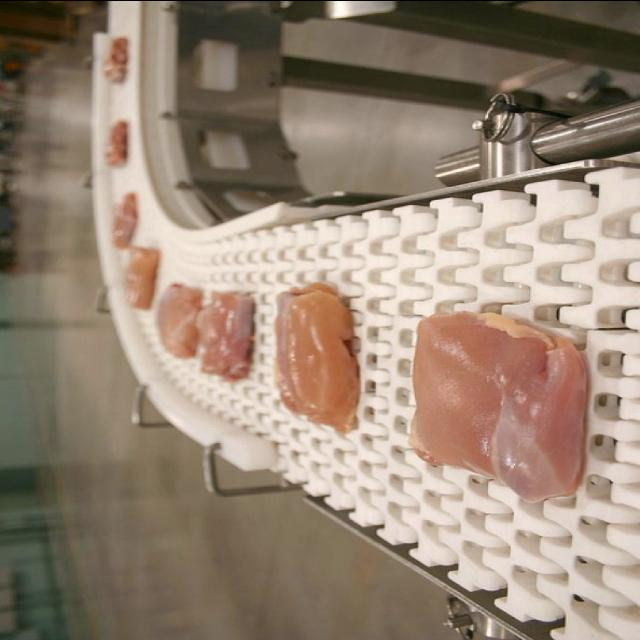food: (406, 310, 588, 503), (262, 282, 367, 434)
